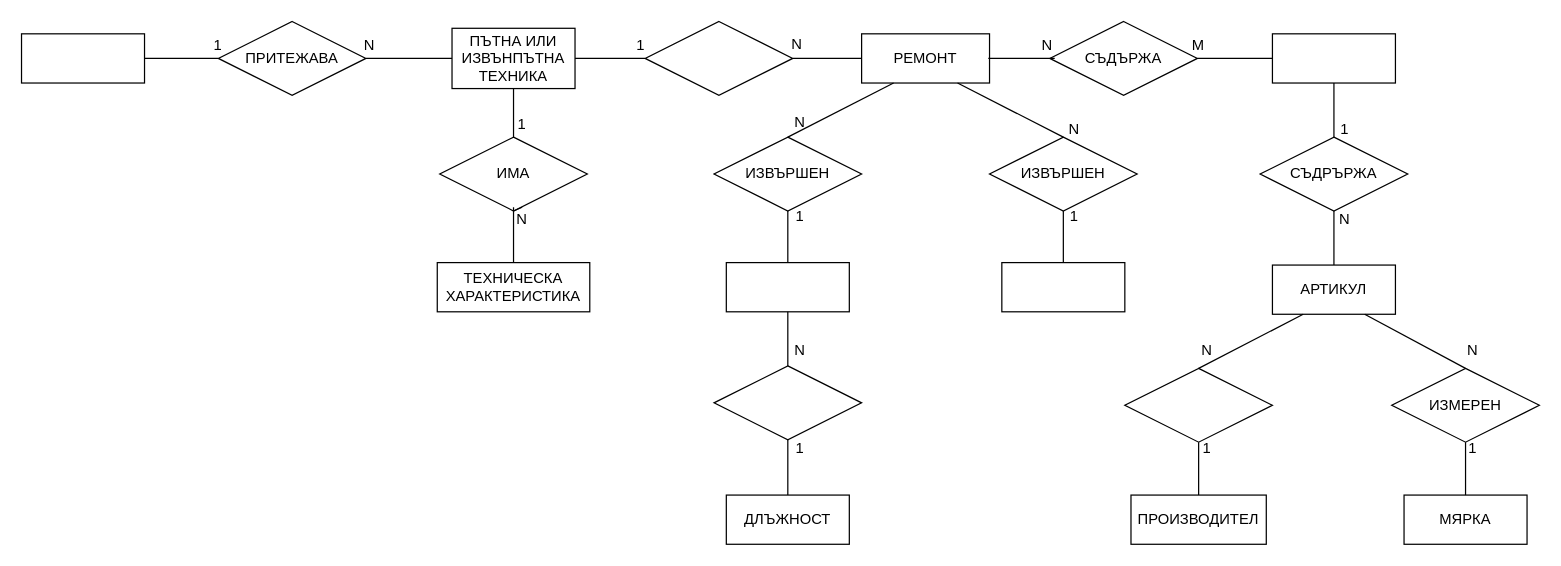
The diagram is 1561 pixels wide and 566 high, and some of its shapes have lost their labels. Each missing label, with the box of its shape:
Е ОБЕКТ НА: (644, 20, 793, 95)
ЗАЕМА: (713, 365, 862, 440)
ПРОИЗВЕДЕН: (1124, 367, 1272, 442)
СЕРВИЗ: (1001, 261, 1125, 312)
СЛУЖИТЕЛ: (725, 261, 849, 312)
СОБСТВЕНИК: (20, 33, 145, 83)
УСЛУГА: (1271, 33, 1395, 83)
